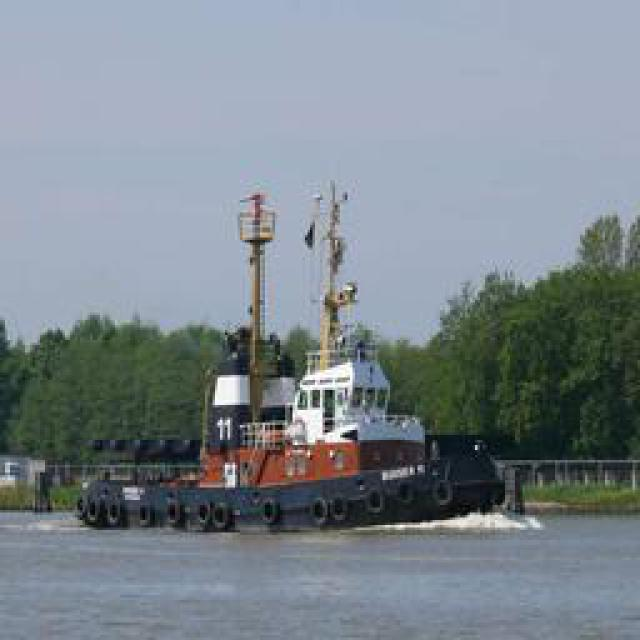Ship: (81, 167, 516, 527)
